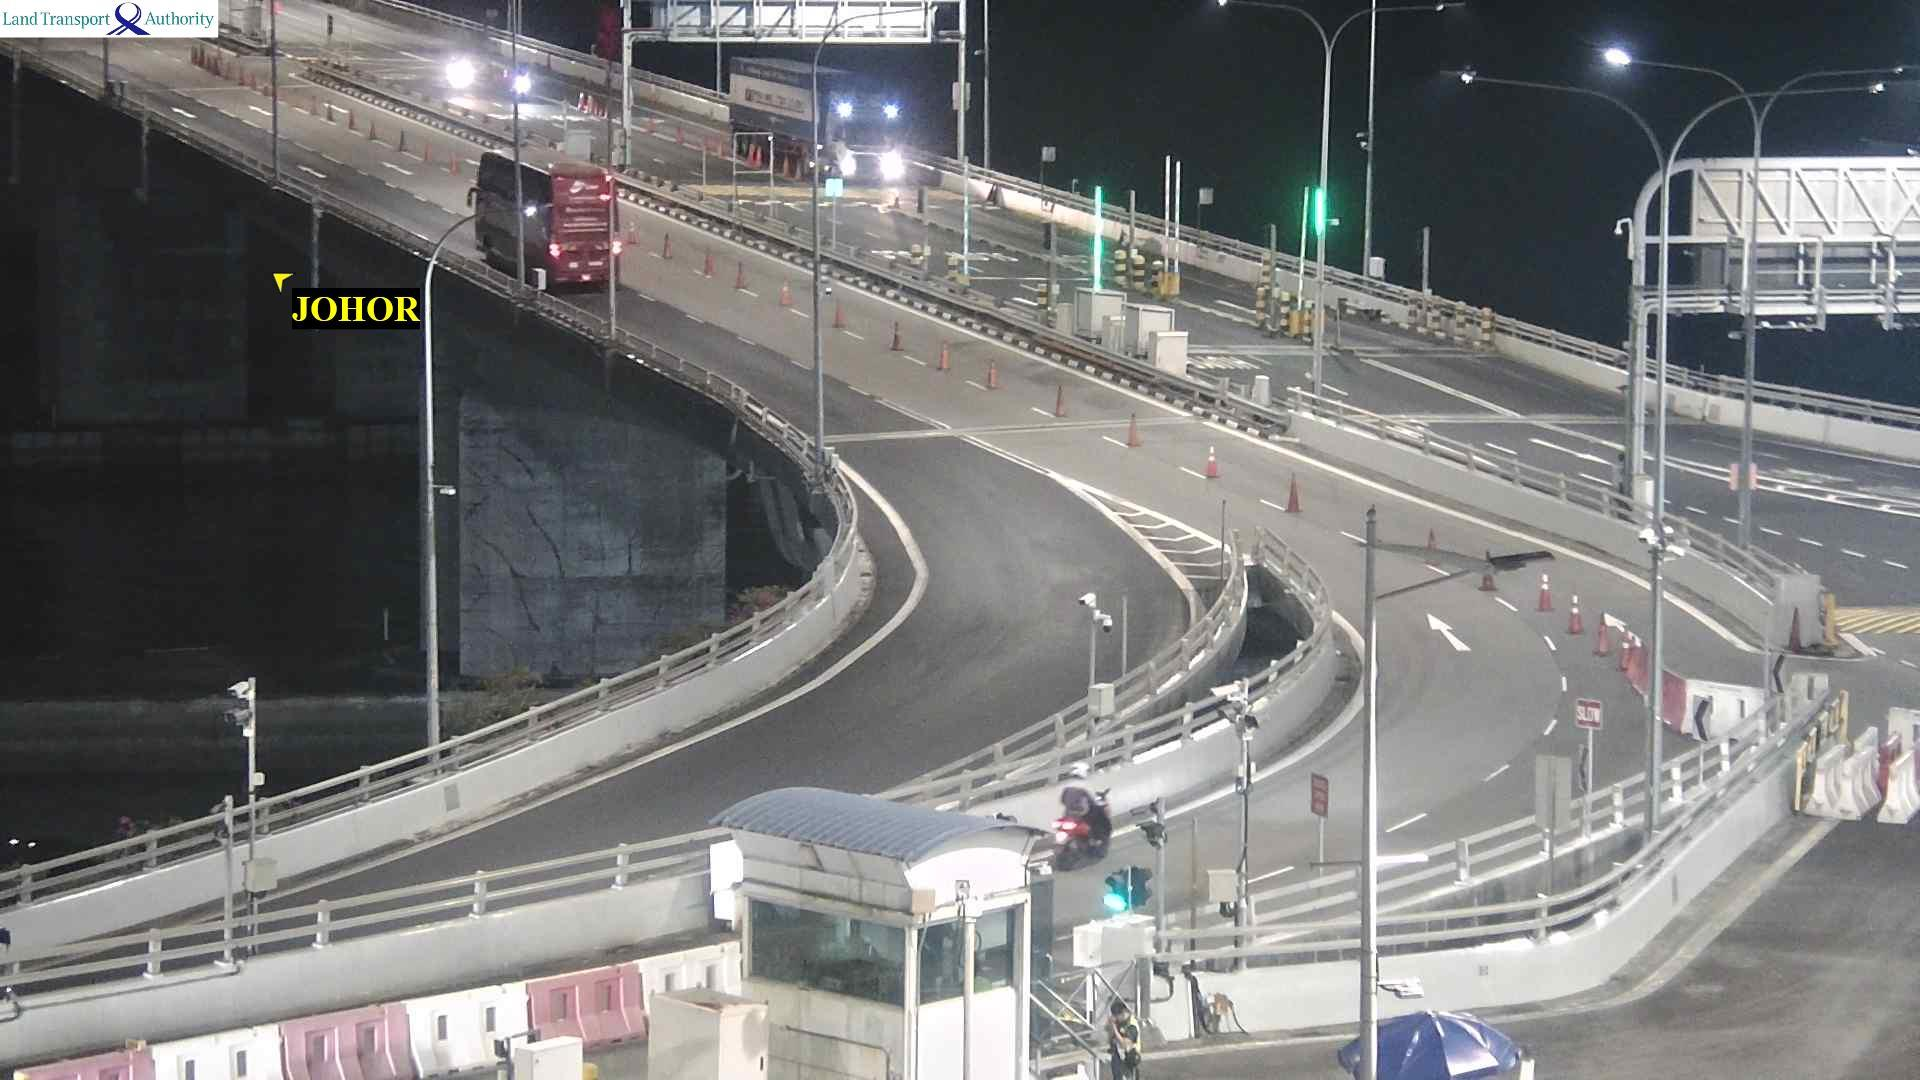vehicle-secondlink-johor: (473, 145, 619, 301), (1042, 778, 1114, 863)
vehicle-secondlink-singapore: (737, 62, 908, 189)
